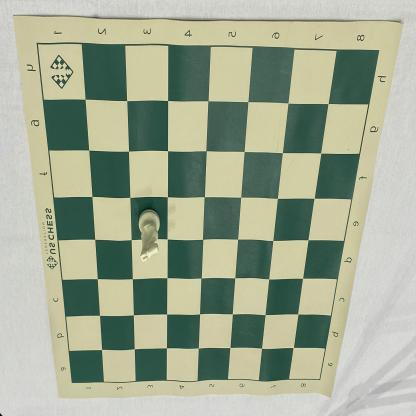white-knight: (138, 208, 161, 263)
